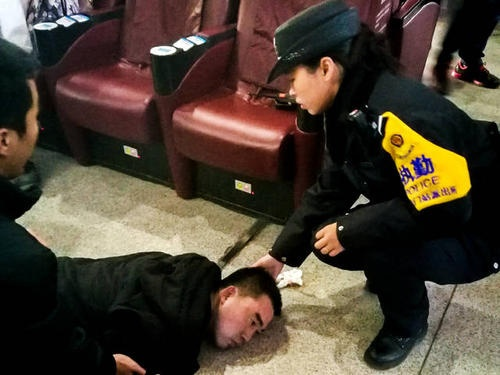falling: (4, 237, 291, 372)
